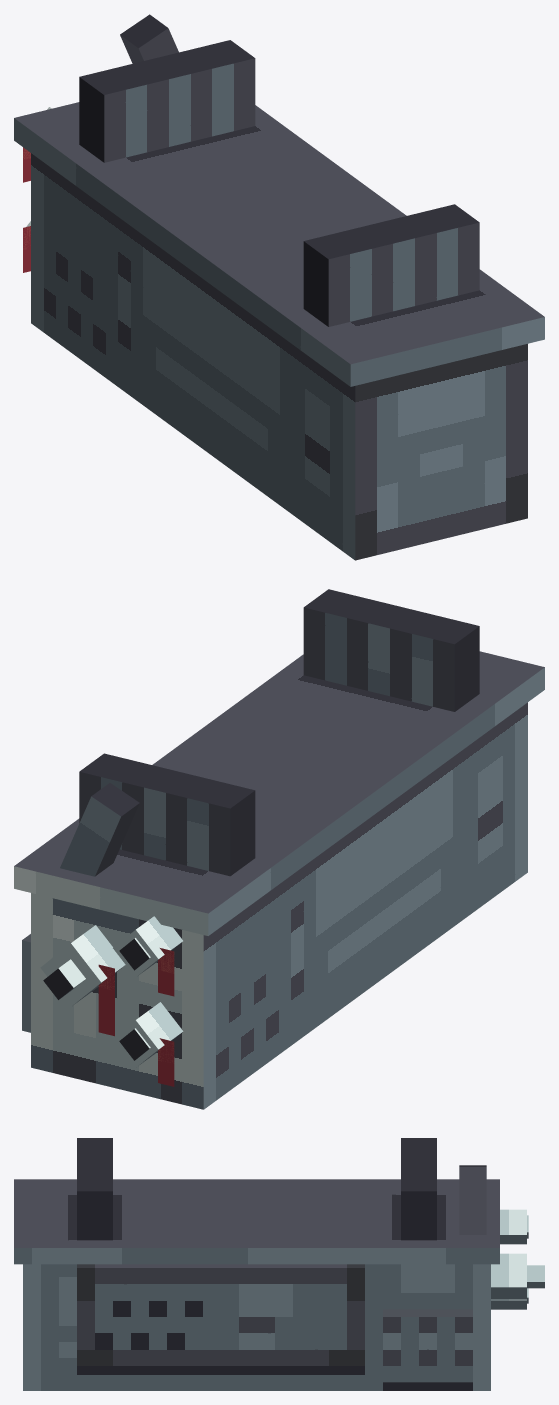
Rendered from vacuum_toilet_1.obj.
3 renders of one model, top to bottom at view 1: azimuth 30°, elevation 25°; view 2: azimuth 150°, elevation 25°; view 3: azimuth 270°, elevation 25°, orthographic. The views are drawn at different scales.
Parts seen in each view (by area): view 1: cube; view 2: cube; view 3: cube.
Part boxes in pixels (left/top/right/bottom): cube: left=14, top=14, right=544, bottom=560; cube: left=14, top=589, right=544, bottom=1109; cube: left=14, top=1138, right=544, bottom=1390.
Bounding box in the file's own units: 0.5938 × 0.7825 × 1.84.
